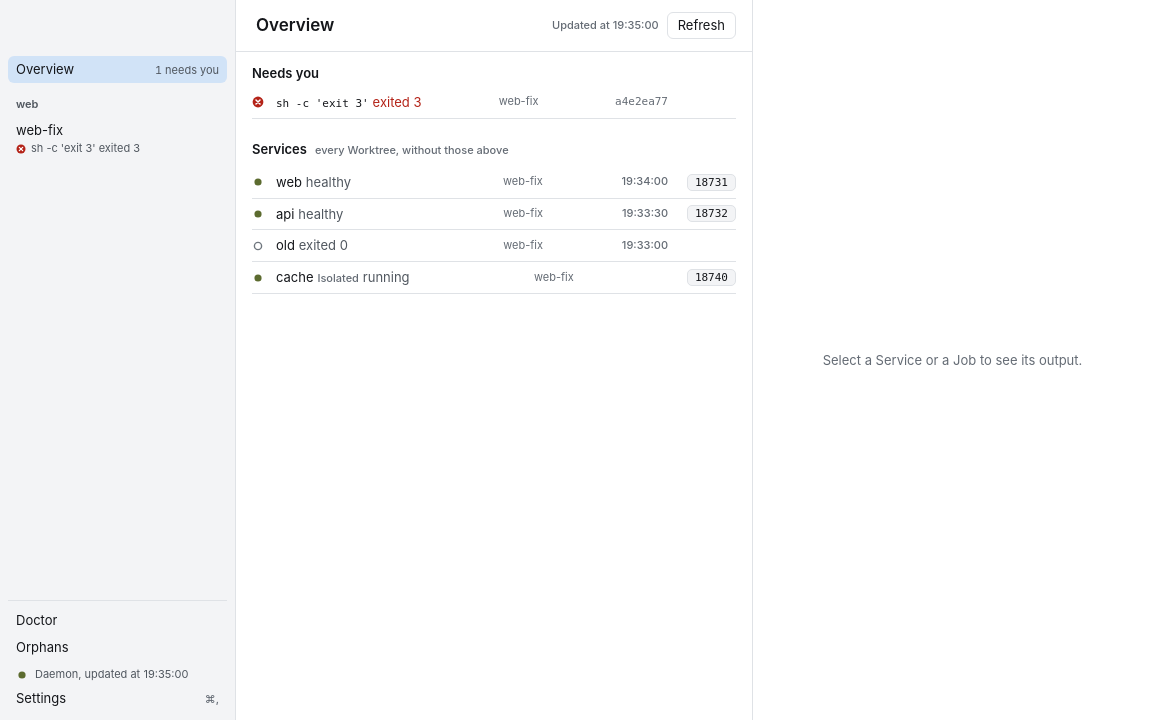
Test case: the menu bar › goes to the Overview, Doctor and the Orphans from the View menu
Later steps or results of the test are not shown.
Click the button "web-fix sh -c 'exit 3' exited 3".
click(118, 139)  # box [8,117,227,161]
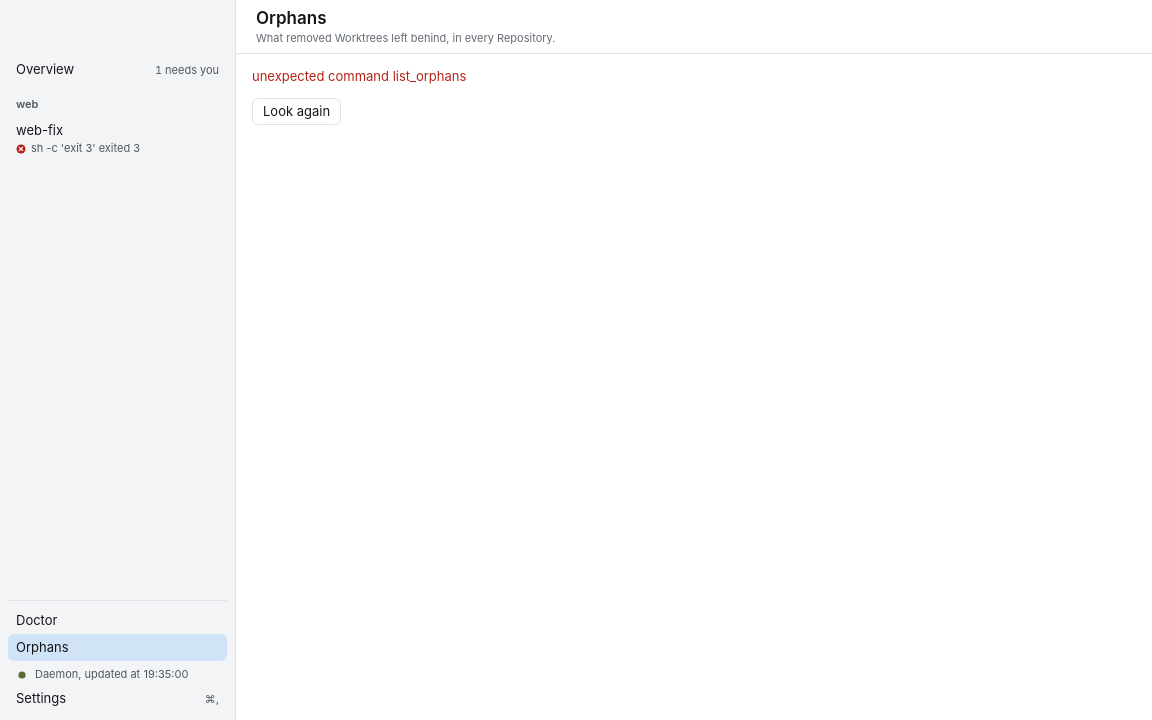
Result: the heading "Orphans" is shown at [256,6,326,31]
